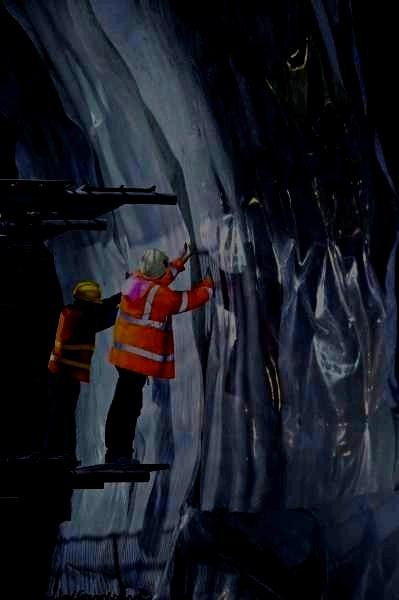helmet: (138, 246, 169, 281), (71, 281, 103, 314)
